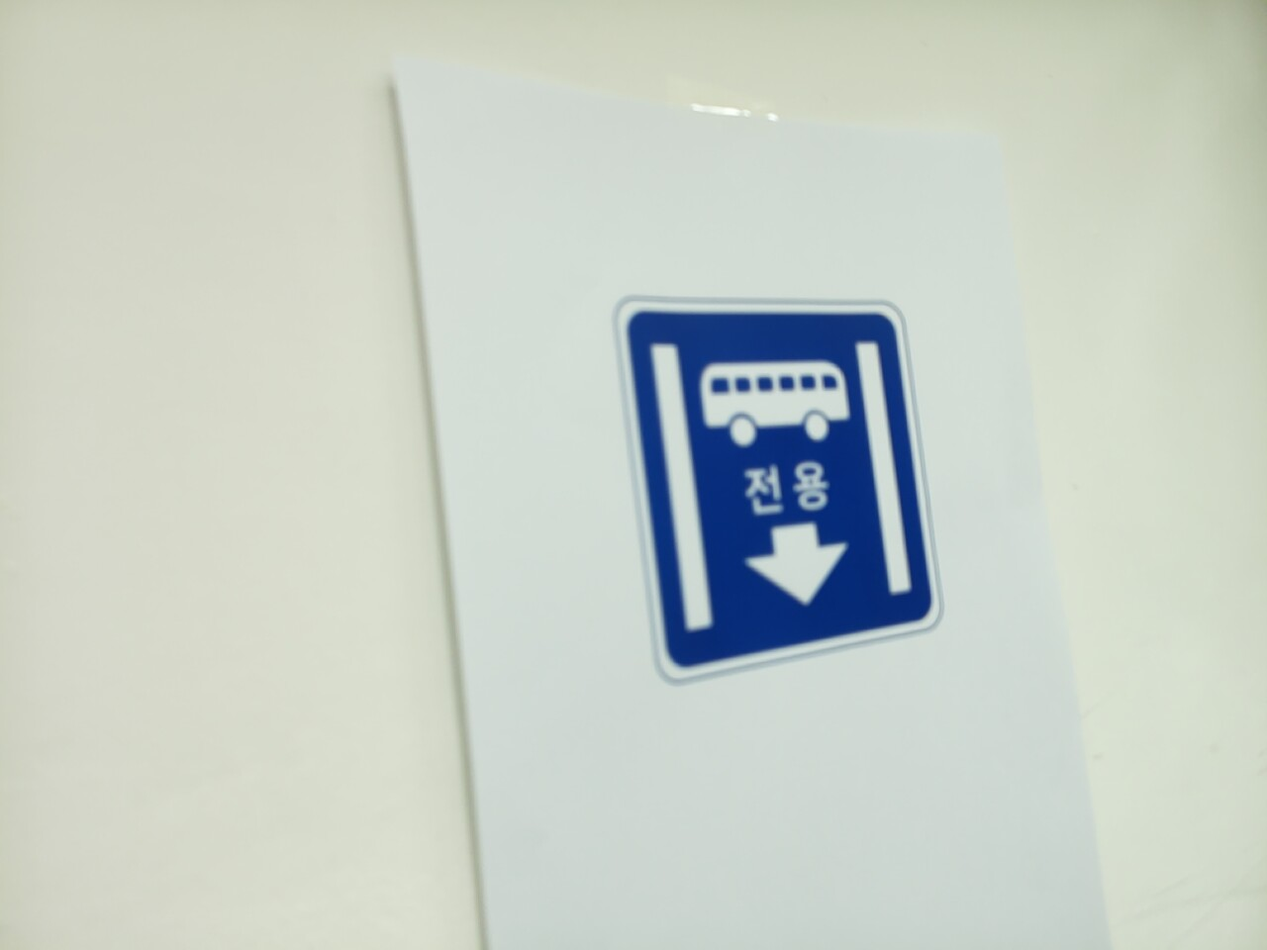bus_only_lane: (617, 300, 941, 679)
